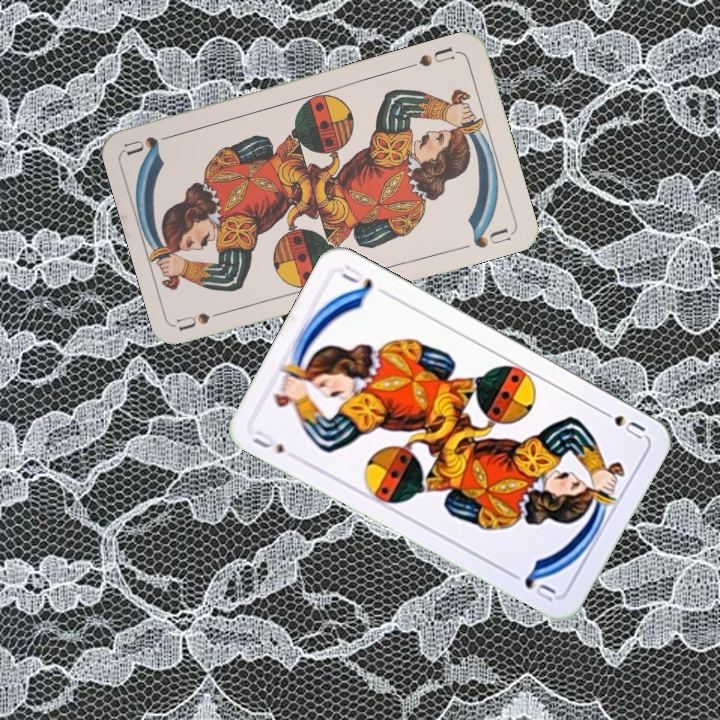SU: (594, 404, 648, 442), (174, 305, 234, 333), (403, 42, 457, 71), (248, 426, 287, 456)
